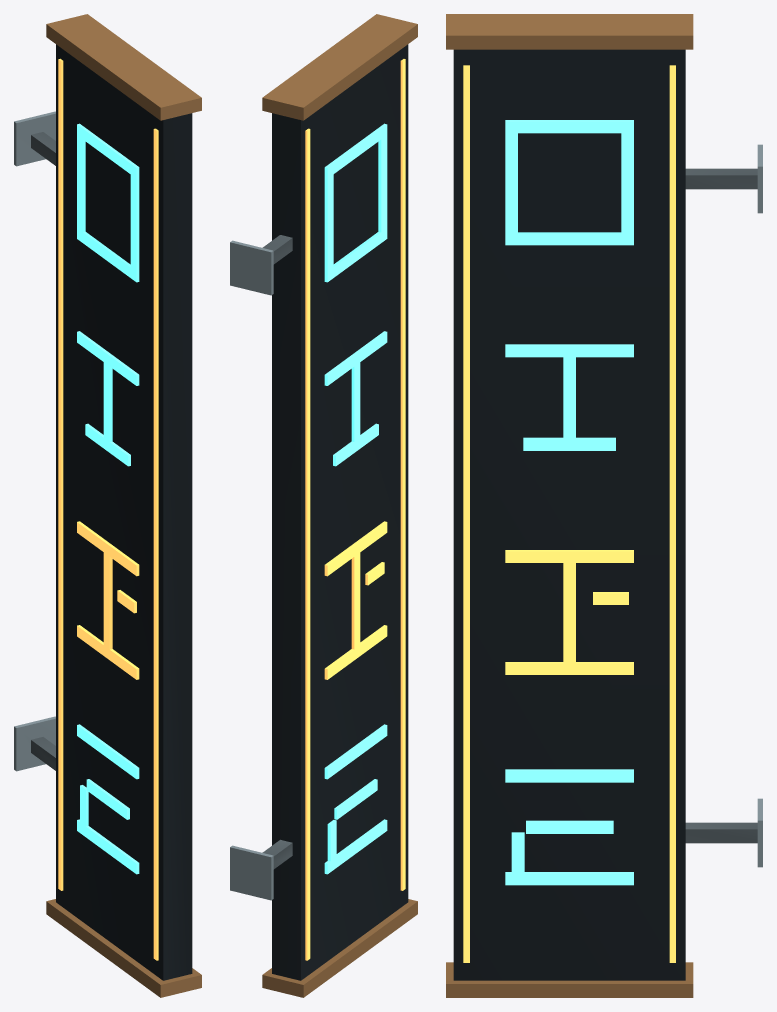
File: neon-blade.lod1.glb
3 renders of one model, left to right at view 1: azimuth 30°, elevation 25°; view 2: azimuth 150°, elevation 25°; view 3: azimuth 270°, elevation 25°, orthographic. The views are drawn at different scales.
Visible parts, largest first — view 1: structure; view 2: structure; view 3: structure.
Part boxes in pixels (box(x1,y1,x2,y2)): structure: box(14, 14, 201, 997); structure: box(230, 14, 417, 997); structure: box(446, 14, 762, 997).
Bounding box in the file's own units: 0.1999 × 4.12 × 1.23.
